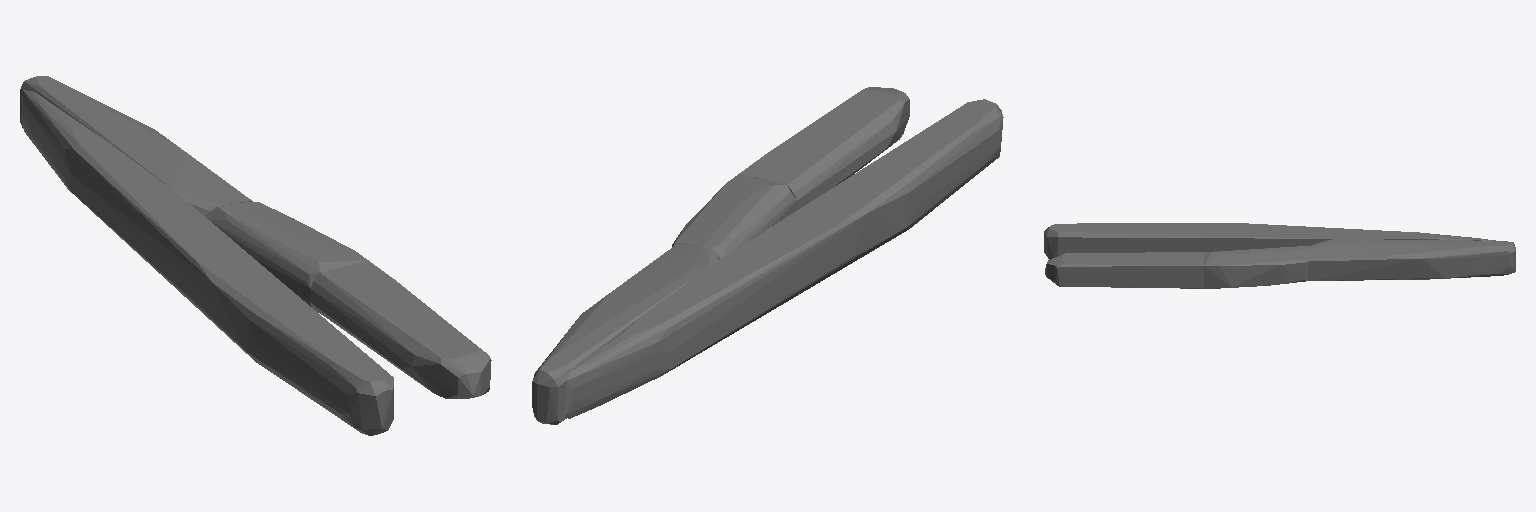
URDF robot description (pliers_001):
<?xml version="1.0" ?>
<robot name="pliers_001">
  <material name="color">
    <color rgba=".5 .5 .5 1"/>
  </material>

  <link name="base_link">
    <contact>
      <lateral_friction value="1.0"/>
      <rolling_friction value="0.001"/>
      <spinning_friction value="0.001"/>
      <inertia_scaling value="1.0"/>
    </contact>
    <inertial>
      <origin rpy="0 0 0" xyz="-0.000521042 -0.00936844 -2.43819e-05"/>
       <mass value="0.1"/>
       <inertia ixx="1" ixy="0" ixz="0" iyy="1" iyz="0" izz="1"/>
    </inertial>

    <visual>
      <origin rpy="0 0 0" xyz="0 0 0"/>
      <geometry>
        <mesh filename="pliers_001_vhacd_0_of_4.obj" scale="1 1 1"/>
      </geometry>
      <material name="color"/>
    </visual>
    <visual>
      <origin rpy="0 0 0" xyz="0 0 0"/>
      <geometry>
        <mesh filename="pliers_001_vhacd_1_of_4.obj" scale="1 1 1"/>
      </geometry>
      <material name="color"/>
    </visual>
    <visual>
      <origin rpy="0 0 0" xyz="0 0 0"/>
      <geometry>
        <mesh filename="pliers_001_vhacd_2_of_4.obj" scale="1 1 1"/>
      </geometry>
      <material name="color"/>
    </visual>
    <visual>
      <origin rpy="0 0 0" xyz="0 0 0"/>
      <geometry>
        <mesh filename="pliers_001_vhacd_3_of_4.obj" scale="1 1 1"/>
      </geometry>
      <material name="color"/>
    </visual>

    <collision>
      <origin rpy="0 0 0" xyz="0 0 0"/>
      <geometry>
        <mesh filename="pliers_001_vhacd_0_of_4.obj" scale="1 1 1"/>
      </geometry>
    </collision>
    <collision>
      <origin rpy="0 0 0" xyz="0 0 0"/>
      <geometry>
        <mesh filename="pliers_001_vhacd_1_of_4.obj" scale="1 1 1"/>
      </geometry>
    </collision>
    <collision>
      <origin rpy="0 0 0" xyz="0 0 0"/>
      <geometry>
        <mesh filename="pliers_001_vhacd_2_of_4.obj" scale="1 1 1"/>
      </geometry>
    </collision>
    <collision>
      <origin rpy="0 0 0" xyz="0 0 0"/>
      <geometry>
        <mesh filename="pliers_001_vhacd_3_of_4.obj" scale="1 1 1"/>
      </geometry>
    </collision>

  </link>
</robot>

--- What the picture shows (computed from the rendered views, not written in the file) ---
Views: 3 orthographic renders of the robot side by side, from view 1: azimuth 30°, elevation 25°; view 2: azimuth 150°, elevation 25°; view 3: azimuth 270°, elevation 25°.
Robot: pliers_001 — 1 links, 0 joints (none); root link base_link; default pose: every joint at zero.
Visible links, largest first — view 1: base_link; view 2: base_link; view 3: base_link.
Boxes of the visible links, x1,y1,x2,y2 form: base_link: [20, 76, 491, 435]; base_link: [532, 87, 1003, 424]; base_link: [1044, 223, 1515, 288].
Size in the robot's own frame: 0.0397 by 0.1907 by 0.0141 metres.
4 mesh visuals loaded from 4 distinct referenced files (4 OBJ).